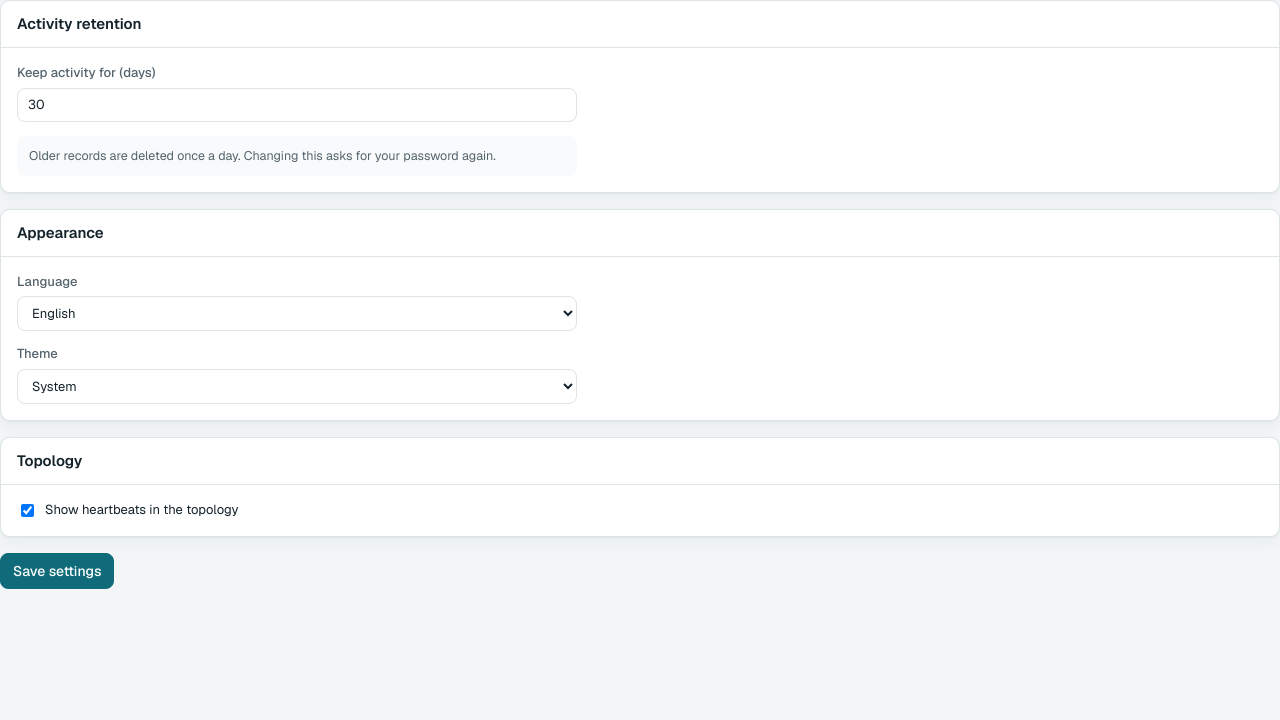
Scenario: Settings saves theme immediately with only the theme field
Select "Dark" in the dropdown labelled "Theme" at [297, 387], box [17,369,577,404]
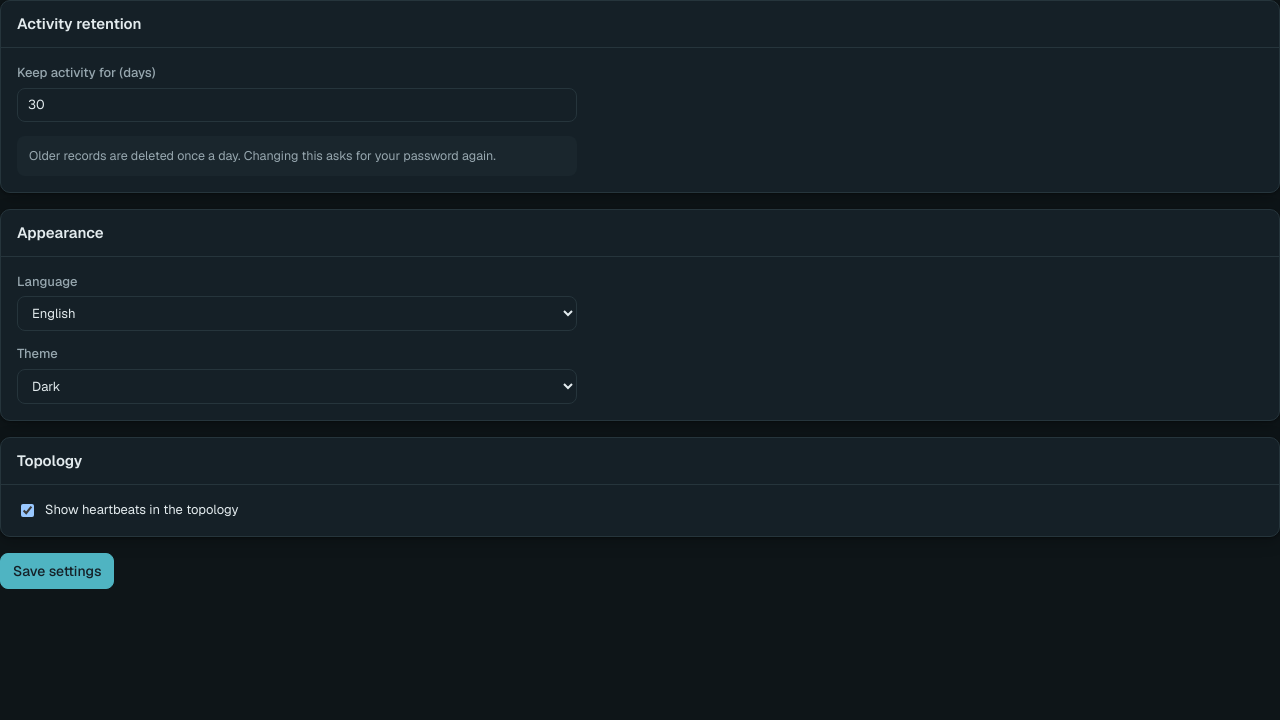
Click the button "Save settings" at [57, 571], box [0,553,114,589]
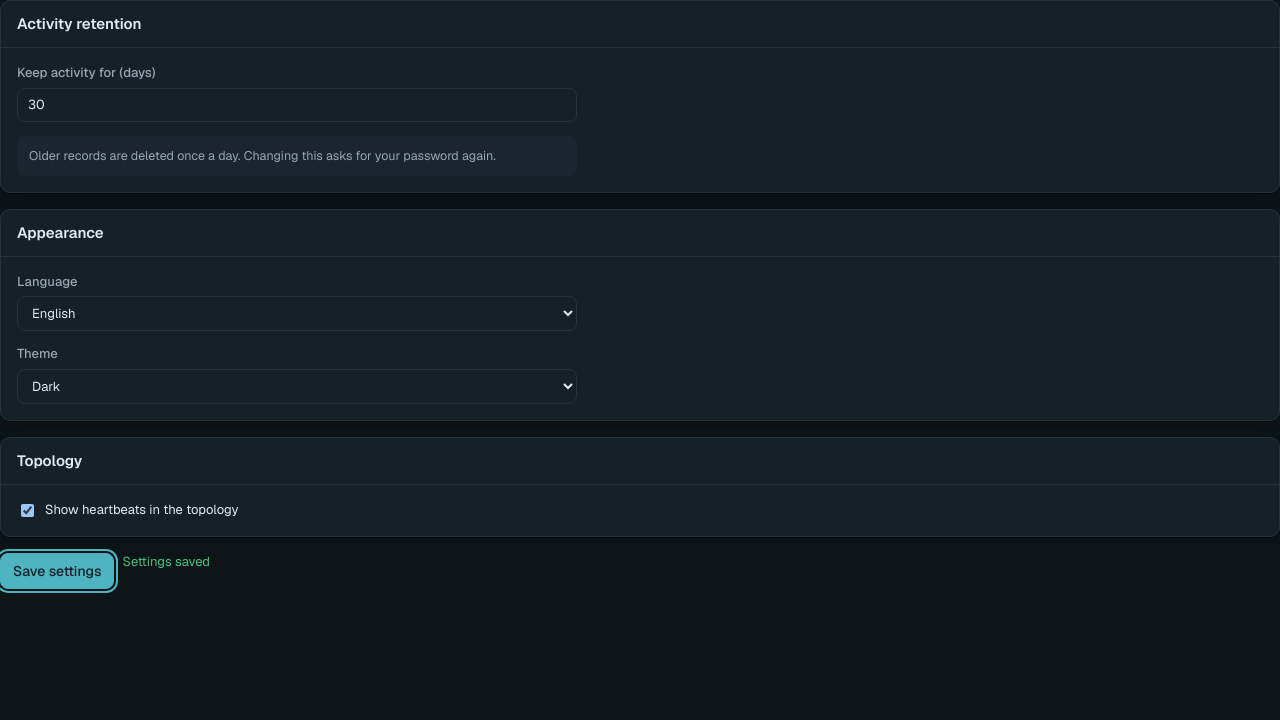
Now the message reads "Settings saved", box [122,553,210,570]
